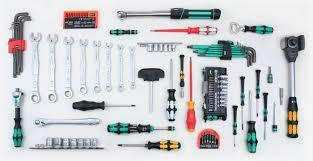wrench: (186, 39, 257, 68), (6, 9, 31, 79)
